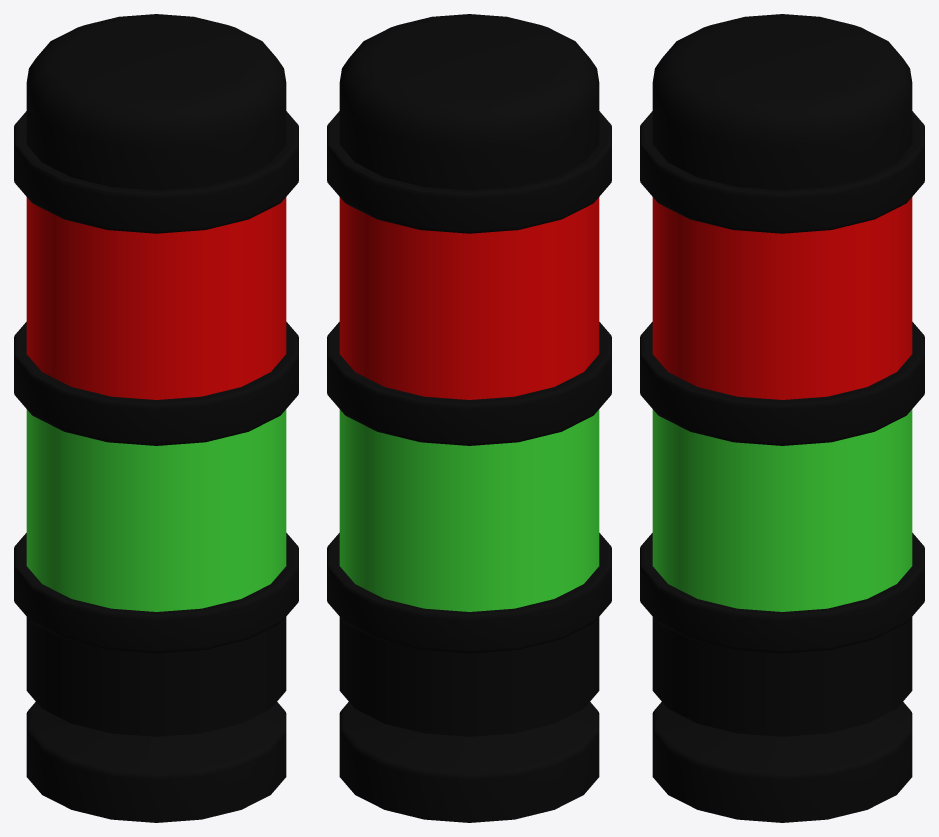
File: SM_LedSecurite.fbx
3 views of the same model, side by side, from view 1: azimuth 30°, elevation 25°; view 2: azimuth 150°, elevation 25°; view 3: azimuth 270°, elevation 25° (orthographic).
Parts seen in each view (by area): view 1: SM_LedLockDoor; view 2: SM_LedLockDoor; view 3: SM_LedLockDoor.
Part boxes in pixels (x1=…): SM_LedLockDoor: x1=14, y1=14, x2=298, y2=822; SM_LedLockDoor: x1=327, y1=14, x2=611, y2=822; SM_LedLockDoor: x1=640, y1=14, x2=924, y2=822.
Bounding box in the file's own units: 21.94 × 59.28 × 21.6.
